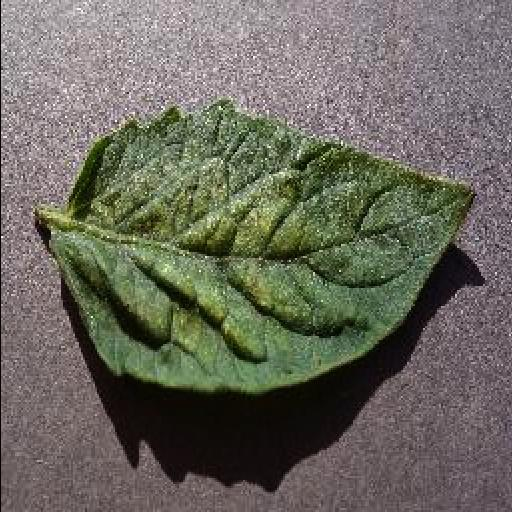disease_tomato: (49, 103, 483, 393)
